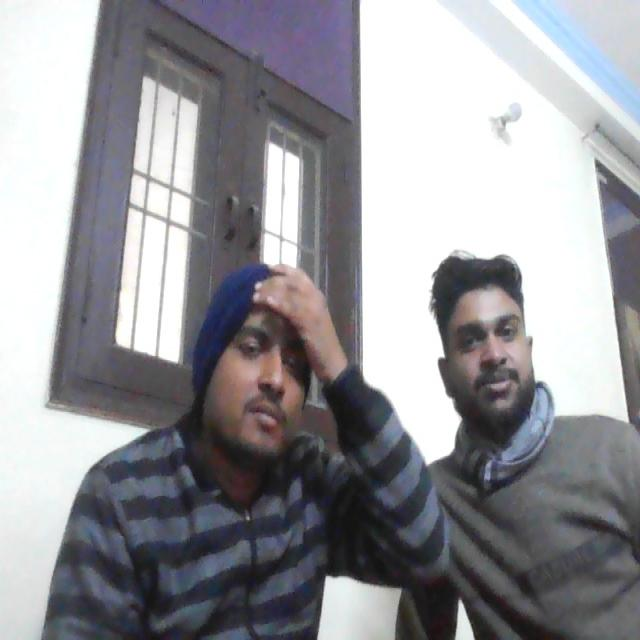real: (200, 248, 323, 481), (430, 233, 536, 435)
